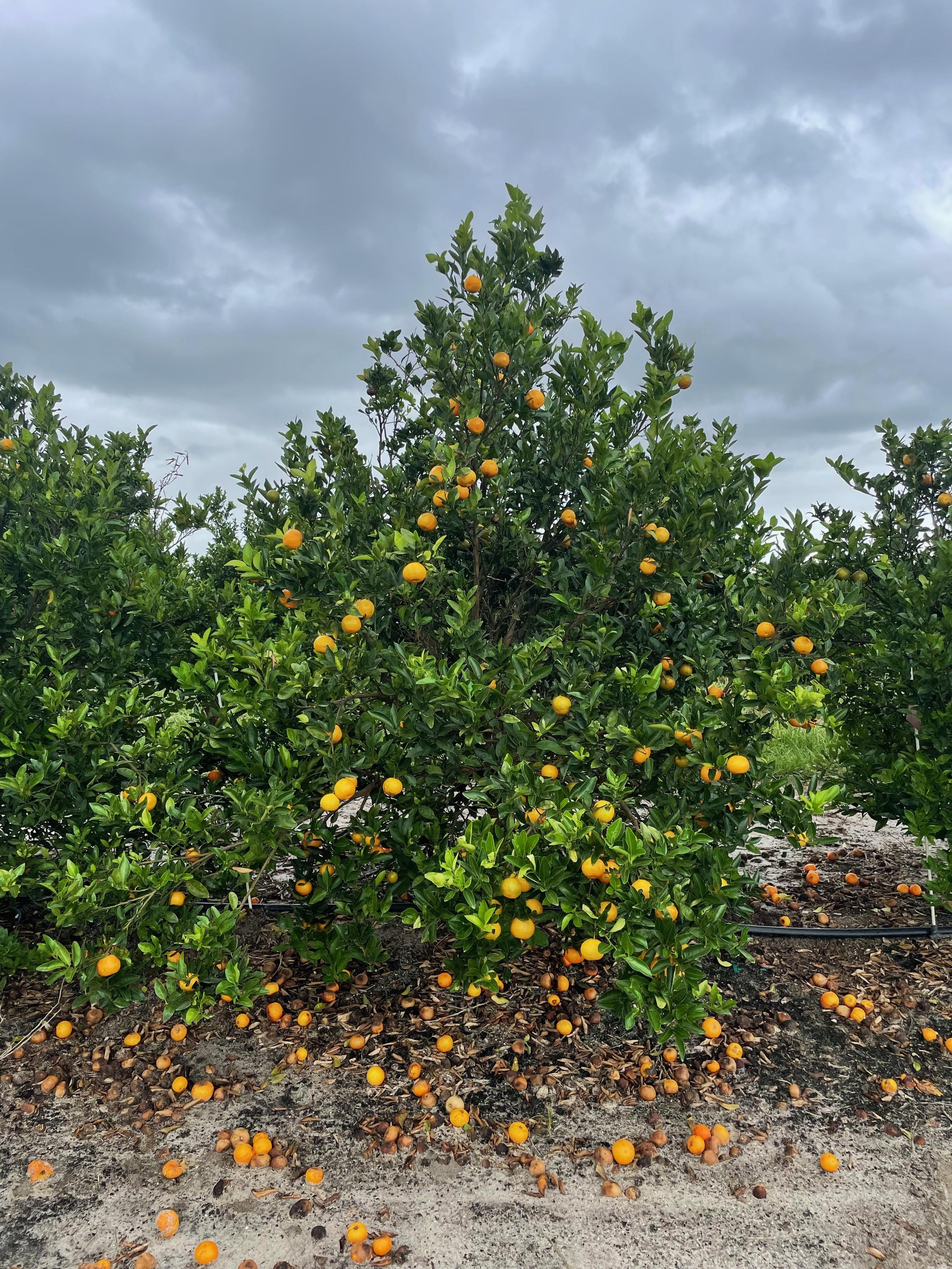fruit_on_ground: (649, 950, 679, 978), (508, 914, 536, 940), (590, 798, 617, 824), (95, 952, 122, 978), (322, 721, 348, 746), (629, 874, 654, 900), (653, 900, 681, 923), (280, 526, 305, 551), (334, 774, 359, 799), (402, 560, 428, 584), (508, 869, 534, 893), (598, 859, 622, 884), (580, 855, 605, 879), (522, 804, 548, 826), (182, 844, 205, 868), (596, 899, 619, 923), (443, 394, 466, 418), (629, 742, 653, 765), (312, 633, 336, 656), (698, 761, 721, 785), (726, 753, 750, 776), (351, 597, 376, 619), (427, 463, 450, 486), (581, 938, 604, 961), (277, 587, 300, 610), (318, 790, 341, 813), (550, 693, 573, 716), (792, 634, 816, 656), (499, 877, 523, 899), (301, 829, 324, 851), (524, 388, 546, 411), (381, 775, 404, 797), (417, 511, 439, 533), (486, 895, 509, 916), (455, 467, 478, 488), (754, 619, 777, 640), (392, 712, 416, 732), (178, 972, 200, 993), (523, 895, 544, 917), (340, 613, 362, 634), (671, 751, 692, 772), (539, 761, 560, 782), (430, 488, 452, 508), (692, 811, 714, 831), (480, 920, 502, 940), (465, 416, 487, 436), (366, 837, 389, 856), (564, 779, 585, 799), (444, 337, 465, 357), (684, 729, 705, 749), (651, 587, 672, 607), (479, 458, 500, 478), (137, 792, 158, 812), (463, 274, 484, 294), (786, 710, 808, 729), (316, 860, 338, 879), (711, 874, 731, 894), (121, 784, 141, 804), (167, 889, 187, 909), (520, 320, 541, 339), (809, 656, 830, 675), (478, 970, 500, 988), (673, 724, 693, 743), (293, 876, 313, 895), (364, 830, 383, 849), (452, 483, 471, 502), (658, 673, 677, 692), (639, 556, 658, 575), (850, 567, 869, 586), (491, 350, 510, 369), (659, 826, 679, 844), (282, 795, 301, 813), (653, 526, 671, 545), (349, 829, 368, 847), (0, 434, 17, 454), (465, 980, 483, 998), (676, 373, 694, 391), (799, 712, 818, 729), (579, 454, 598, 471), (657, 655, 676, 672), (640, 521, 658, 538), (834, 565, 851, 583), (901, 451, 919, 468), (918, 472, 935, 490), (677, 661, 695, 678), (707, 683, 724, 701), (164, 948, 183, 964), (207, 767, 224, 784), (264, 488, 281, 504), (384, 869, 401, 885), (560, 509, 577, 525), (936, 490, 951, 508), (558, 535, 575, 550), (648, 620, 665, 635), (315, 919, 331, 933), (104, 605, 119, 618), (564, 516, 579, 529), (399, 888, 413, 901), (300, 917, 313, 930), (365, 386, 377, 396)
fruit_on_tree: (192, 1239, 221, 1267), (26, 1158, 55, 1185), (154, 1208, 180, 1238), (612, 1138, 635, 1165), (700, 1015, 724, 1039), (345, 1220, 369, 1244), (346, 1243, 371, 1266), (507, 1120, 530, 1144), (161, 1157, 186, 1178), (190, 1078, 213, 1100), (709, 1122, 731, 1144), (365, 1064, 387, 1086), (372, 1234, 393, 1257), (233, 1142, 254, 1164), (819, 1151, 840, 1173), (132, 1251, 159, 1268), (84, 1005, 105, 1026), (562, 944, 583, 965), (303, 1165, 325, 1185), (600, 1179, 622, 1199), (54, 1019, 74, 1040), (592, 1144, 612, 1165), (411, 1078, 432, 1098), (38, 1073, 59, 1093), (684, 1134, 705, 1154), (819, 990, 840, 1010), (252, 1136, 274, 1155), (169, 1022, 189, 1042), (449, 1108, 470, 1127), (230, 1126, 252, 1144), (527, 1157, 547, 1176), (265, 1001, 284, 1021), (434, 1033, 454, 1052), (879, 1075, 898, 1094), (552, 973, 571, 992), (445, 1094, 465, 1112), (269, 1153, 289, 1171), (251, 1152, 272, 1169), (121, 1031, 142, 1048), (436, 971, 455, 989), (693, 1122, 712, 1140), (170, 1075, 189, 1093), (637, 1083, 656, 1101), (725, 1041, 744, 1059), (90, 1255, 114, 1269), (404, 1061, 422, 1079), (382, 1122, 401, 1139), (700, 1150, 719, 1167), (555, 1017, 572, 1036), (347, 1032, 366, 1049), (397, 993, 417, 1009), (215, 1130, 232, 1148), (286, 1047, 304, 1064), (419, 1093, 437, 1110), (396, 1131, 414, 1148), (651, 1128, 669, 1145), (662, 1044, 679, 1062), (537, 972, 555, 989), (293, 1046, 311, 1063), (637, 1054, 654, 1072), (510, 1075, 528, 1092), (233, 1012, 251, 1029), (662, 1077, 679, 1095), (919, 1025, 937, 1042), (261, 979, 281, 994), (250, 1129, 270, 1144), (639, 1065, 656, 1082), (155, 1052, 172, 1069), (675, 1063, 691, 1081), (509, 1038, 527, 1054), (418, 1005, 436, 1021), (810, 971, 828, 987), (834, 1005, 853, 1020), (200, 1065, 217, 1081), (379, 1140, 396, 1156), (321, 986, 338, 1002), (352, 971, 369, 987), (583, 986, 600, 1002), (30, 1028, 47, 1044), (841, 991, 858, 1007), (581, 962, 600, 976), (751, 1183, 767, 1199), (297, 1009, 313, 1025), (570, 1011, 587, 1026), (424, 1112, 441, 1127), (775, 1009, 792, 1024), (763, 882, 780, 897), (850, 1006, 867, 1021), (278, 1012, 294, 1027), (213, 956, 229, 971), (788, 1082, 803, 1098), (369, 1020, 385, 1035), (546, 991, 562, 1006), (705, 1059, 721, 1074), (559, 954, 576, 968), (219, 990, 234, 1005), (859, 996, 874, 1011), (338, 965, 354, 979), (805, 870, 821, 884), (843, 870, 859, 884), (140, 1064, 155, 1078), (121, 1056, 136, 1070), (214, 1087, 229, 1101), (588, 1010, 604, 1023), (324, 981, 340, 994), (803, 861, 819, 874), (910, 882, 924, 896), (648, 1110, 663, 1123), (290, 998, 305, 1011), (91, 1047, 105, 1060), (770, 889, 783, 903), (12, 1047, 26, 1060), (817, 911, 830, 925), (895, 881, 909, 894), (942, 1035, 952, 1052), (761, 1020, 775, 1032), (203, 1063, 217, 1075), (91, 1059, 104, 1071), (851, 846, 864, 858), (779, 914, 792, 926), (825, 849, 837, 861), (249, 894, 261, 905), (789, 900, 801, 911)
